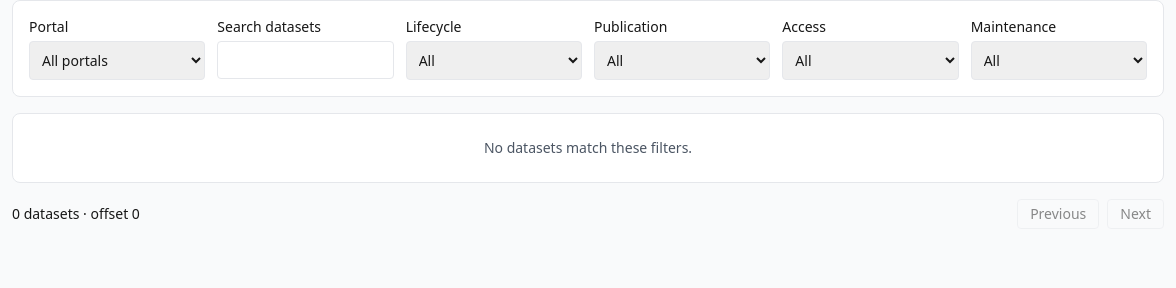
Test: aborts replacement requests and ignores an older filter response
The width and height of the screenshot is (1176, 288).
Expected: the text "No datasets match these filters." is shown, left=12, top=113, right=1164, bottom=183
Select "NGED" in the dropdown labelled "Portal": (117, 60) left=29, top=41, right=205, bottom=80
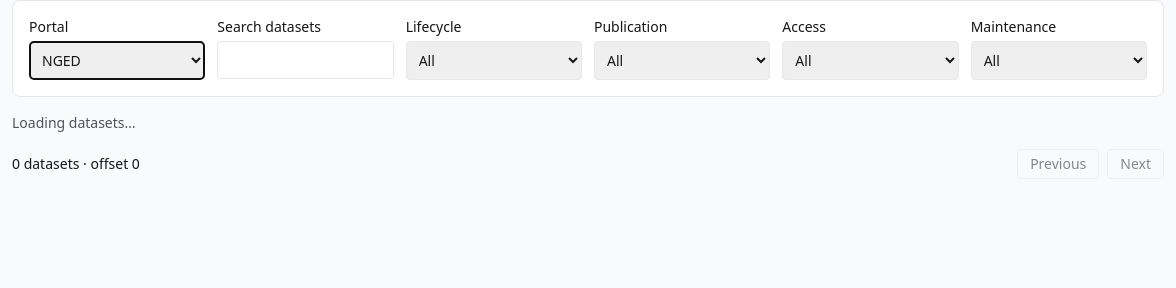
Select "SSEN" in the dropdown labelled "Portal": (117, 60) left=29, top=41, right=205, bottom=80
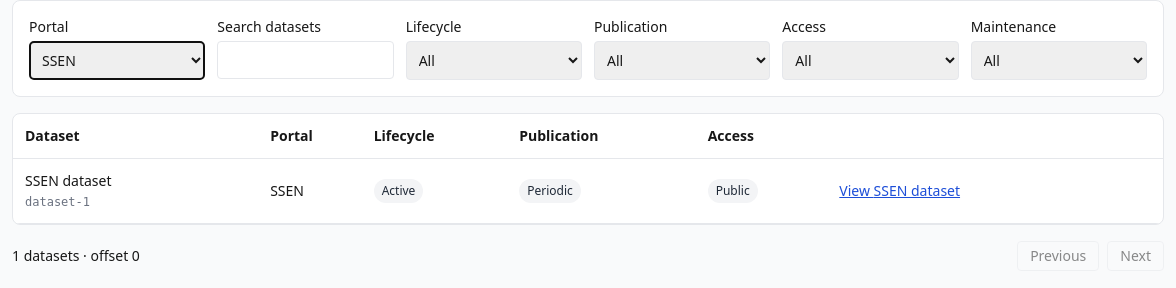
Expected: the text "SSEN dataset" is shown, left=25, top=171, right=112, bottom=190
